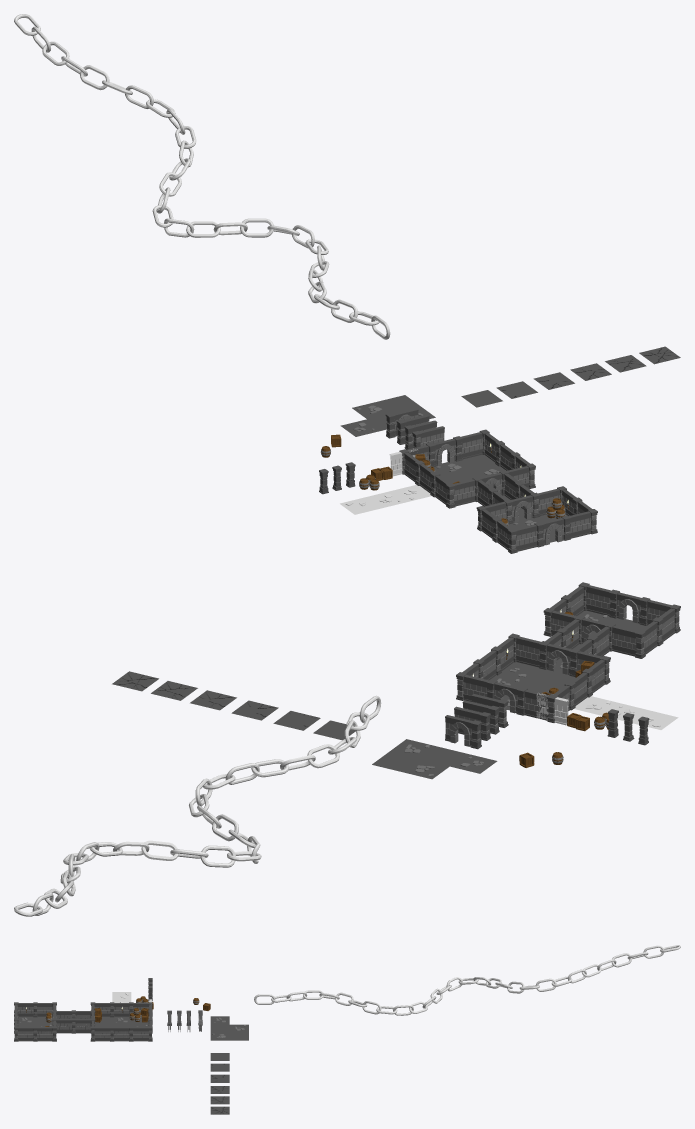
File: floor_pieces.fbx
The picture shows the model from 3 angles, top to bottom: view 1: azimuth 30°, elevation 25°; view 2: azimuth 150°, elevation 25°; view 3: azimuth 270°, elevation 25°; orthographic projection. The views are drawn at different scales.
Visible parts, largest first — view 1: Torus; view 2: Torus, Cube.024, Cube.045, Cube.017, Cube.012, Cube.047, Cube.011, Cube.028, Cube.006, Cube.007, wall, Cube.005 (+17 smaller); view 3: Torus, Cube.025, Cube.009, Cube.010, Cube.008, Cube.018, Cube.026, Cube.015.
Boxes of the visible parts, x1=… form: Torus: x1=14, y1=14, x2=390, y2=339; Torus: x1=14, y1=695, x2=381, y2=916; Cube.024: x1=445, y1=715, x2=481, y2=749; Cube.045: x1=611, y1=625, x2=645, y2=658; Cube.017: x1=524, y1=689, x2=558, y2=722; Cube.012: x1=539, y1=641, x2=571, y2=674; Cube.047: x1=609, y1=589, x2=641, y2=623; Cube.011: x1=508, y1=633, x2=540, y2=667; Cube.028: x1=578, y1=582, x2=611, y2=615; Cube.006: x1=494, y1=682, x2=527, y2=715; Cube.007: x1=463, y1=675, x2=497, y2=701; wall: x1=536, y1=693, x2=568, y2=725; Cube.005: x1=454, y1=706, x2=490, y2=740; Torus: x1=254, y1=945, x2=680, y2=1015; Cube.025: x1=37, y1=1026, x2=56, y2=1041; Cube.009: x1=113, y1=1026, x2=133, y2=1041; Cube.010: x1=94, y1=1026, x2=114, y2=1041; Cube.008: x1=133, y1=1026, x2=152, y2=1041; Cube.018: x1=71, y1=1018, x2=91, y2=1033; Cube.026: x1=18, y1=1026, x2=37, y2=1041; Cube.015: x1=110, y1=1002, x2=129, y2=1017.
Size of the model in its own units: 6101 by 1936 by 13915.
10 materials, 5 textured.
